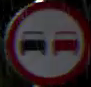No overtake: (7, 0, 88, 85)
